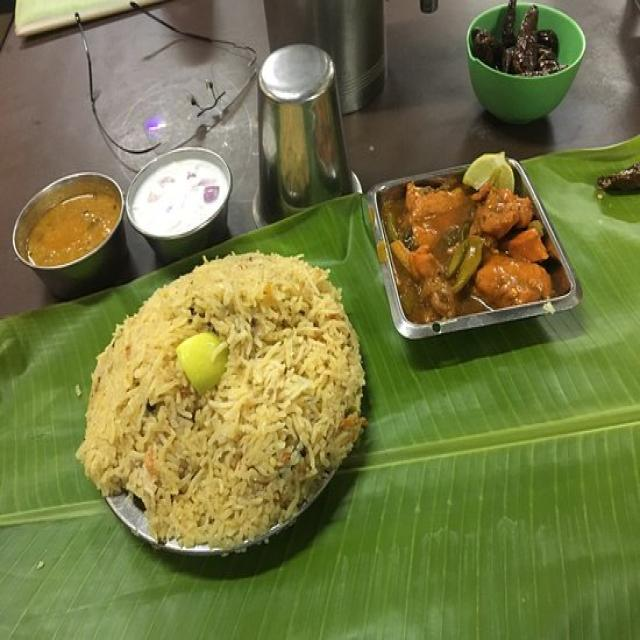non veg meals: (13, 124, 590, 572)
